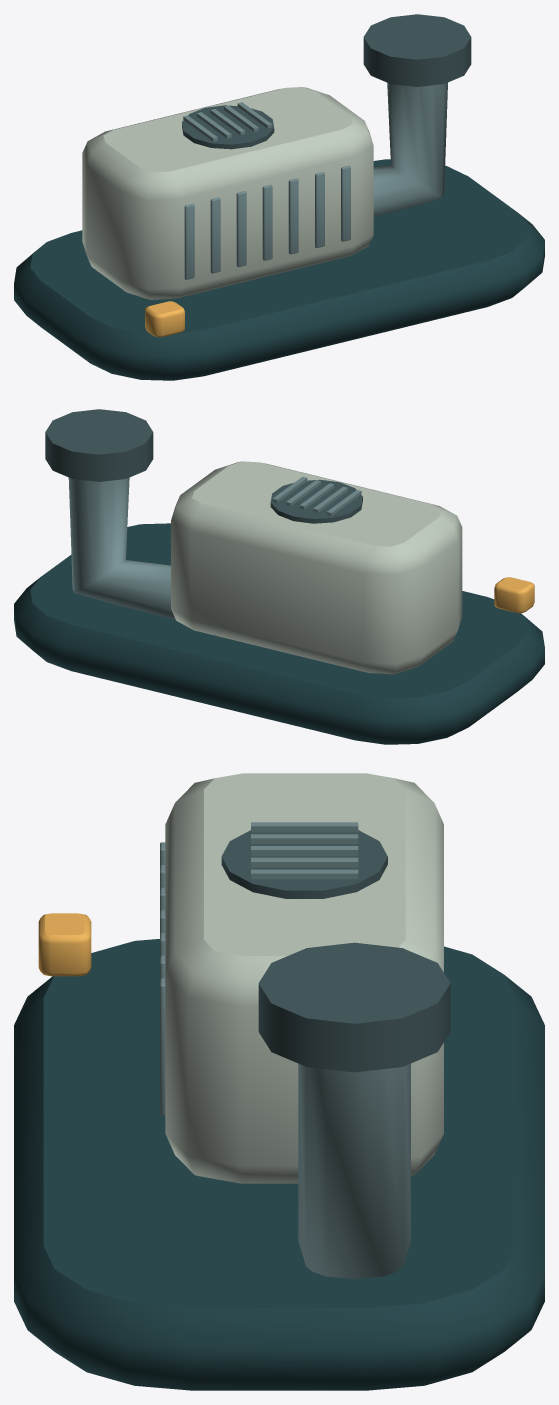
Rendered from service_mechanical.glb.
3 renders of one model, top to bottom at view 1: azimuth 30°, elevation 25°; view 2: azimuth 150°, elevation 25°; view 3: azimuth 270°, elevation 25°, orthographic. The views are drawn at different scales.
Visible parts, largest first — view 1: Service_mechanical; view 2: Service_mechanical; view 3: Service_mechanical.
Boxes of the visible parts, left/top/right/bottom form: Service_mechanical: left=14, top=14, right=544, bottom=380; Service_mechanical: left=14, top=409, right=544, bottom=744; Service_mechanical: left=14, top=773, right=544, bottom=1390.
Size of the model in its own units: 1.75 by 0.74 by 0.99.
